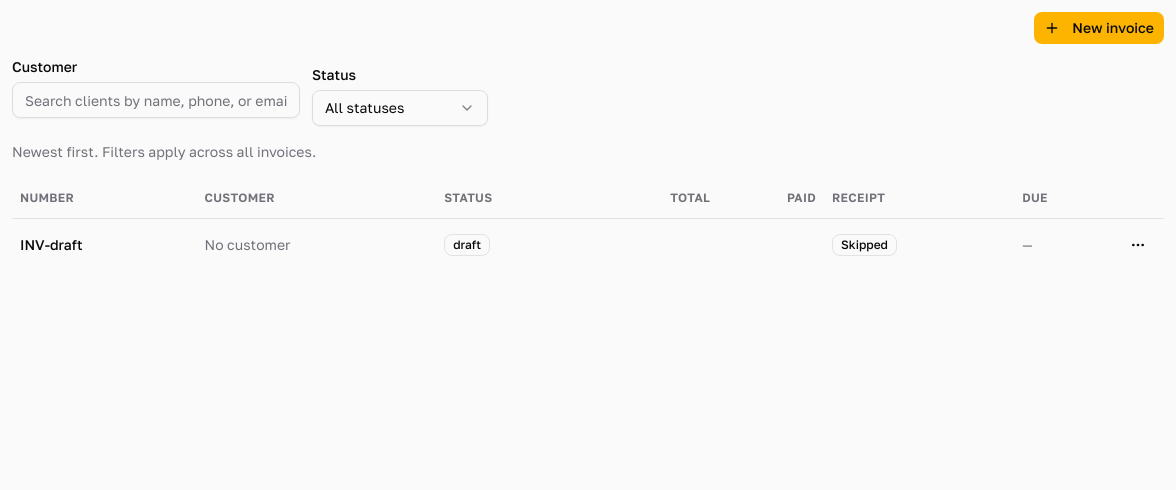
invoice row actions › lets an unsent draft be edited or destroyed
This screenshot has width=1176, height=490.
Click the button named "Actions".
click(1138, 244)  # box [1120,226,1156,262]
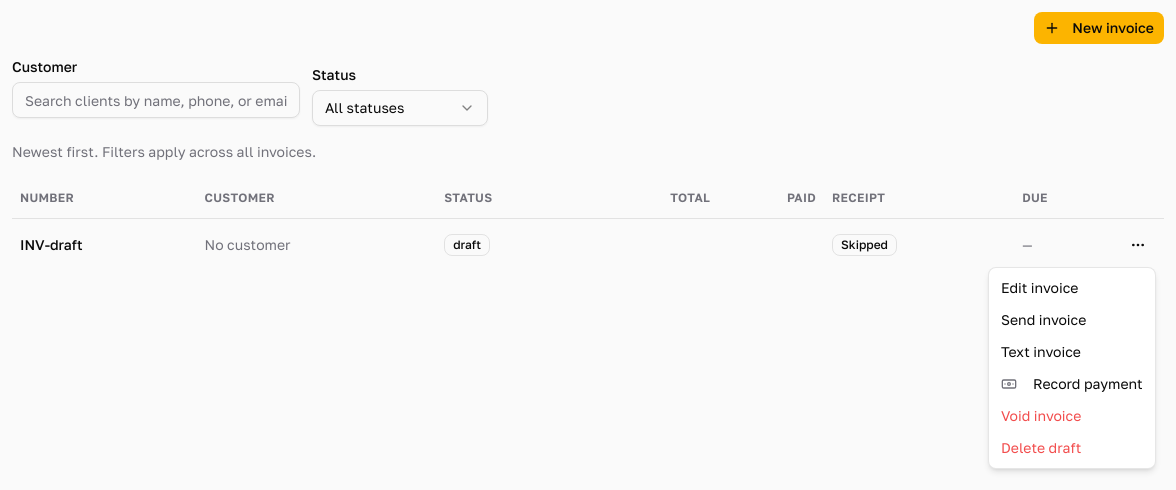
Check: the menu item "Edit invoice" is shown, box [1001,279,1078,296]
Check: the menu item "Send invoice" is shown, box [1001,311,1086,328]
Check: the menu item "Delete draft" is shown, box [1001,439,1081,456]
